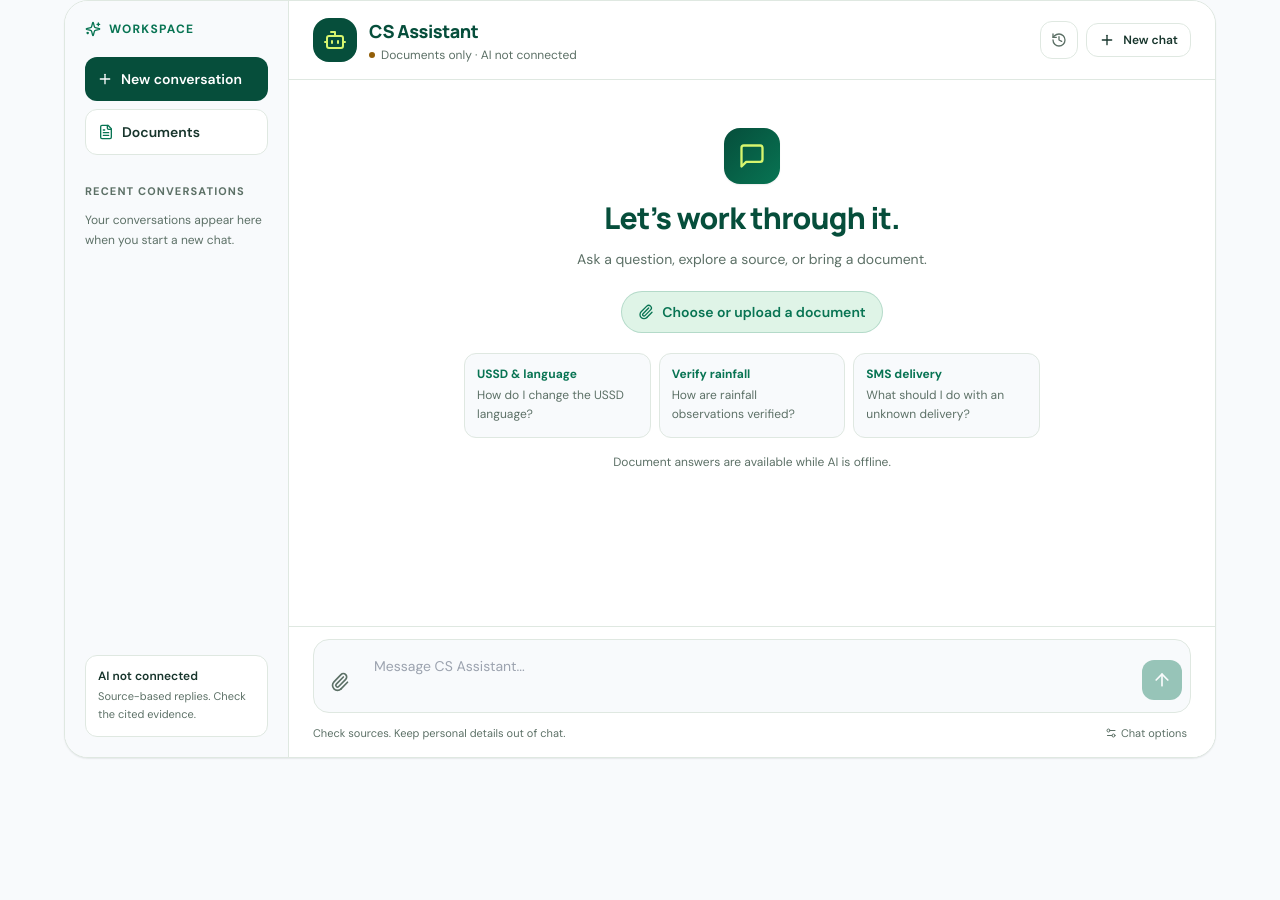
Test: keeps the question when a request fails
Type "rainfall validation" into the text box named "Your question" at (750, 676), box [366,648,1134,704]
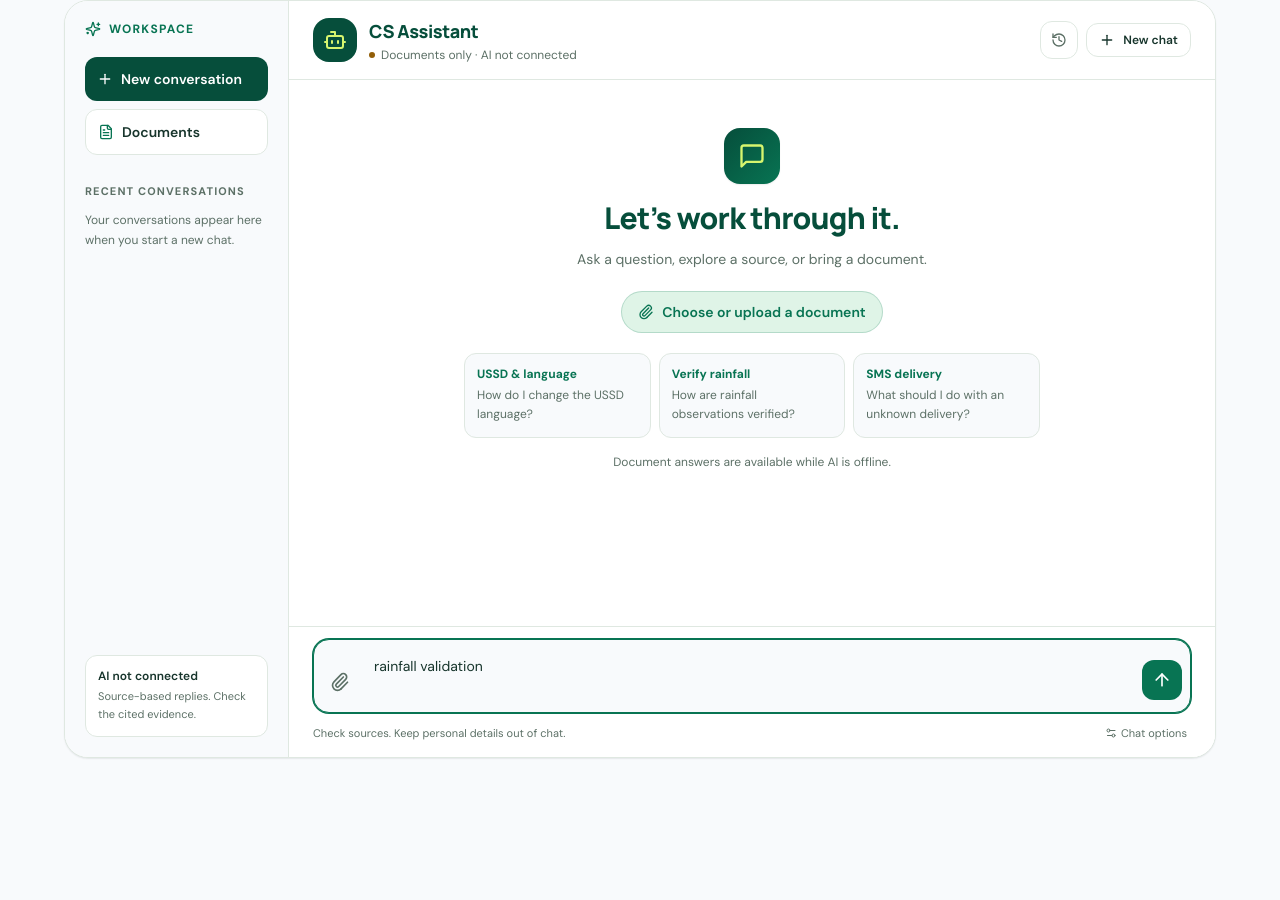
Click the button named "Ask assistant" at (1162, 680), box [1142,660,1182,700]
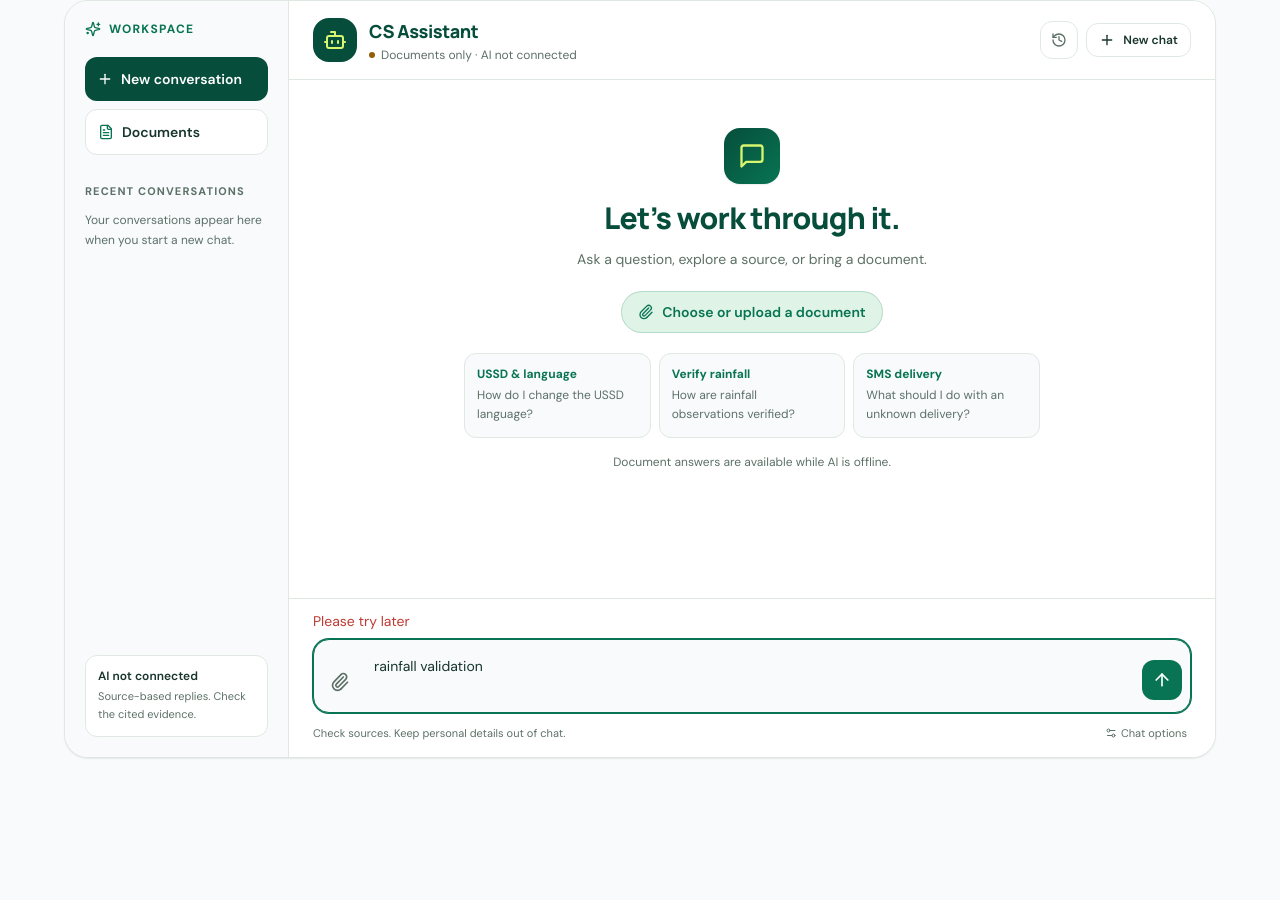
Expected: the text box named "Your question" is enabled, [366,648,1134,704]
Result: the message reads "Please try later" at [313,612,410,630]
